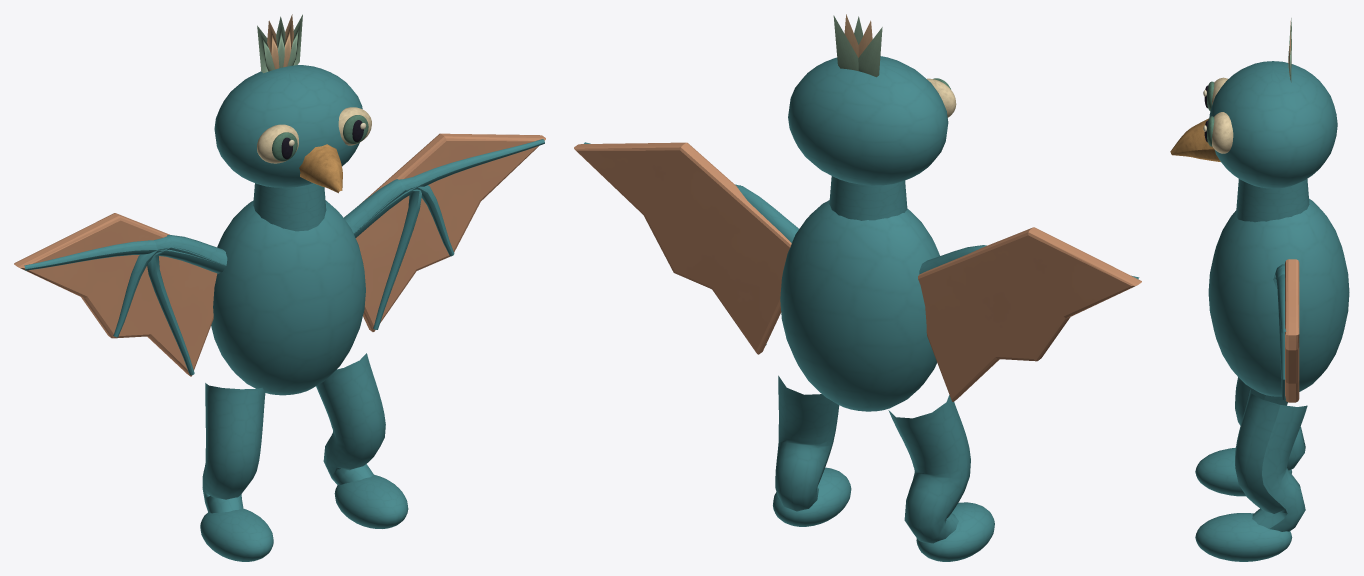
The model's file is yarro.glb.
The picture shows the model from 3 angles, left to right: view 1: azimuth 30°, elevation 25°; view 2: azimuth 150°, elevation 25°; view 3: azimuth 270°, elevation 25°; orthographic projection. The views are drawn at different scales.
Parts seen in each view (by area): view 1: Membrane (×2), Glider body, Bent limb (×2), Cranium, Sail spar (×6), Foot (×2), Visible neck, Tapered beak, Sclera; view 2: Membrane (×2), Glider body, Cranium, Bent limb (×2), Foot (×2), Visible neck, Blade (×2), Sail spar; view 3: Glider body, Cranium, Bent limb (×2), Foot (×2), Visible neck, Membrane, Tapered beak, Sail spar (×2), Sclera.
Part boxes in pixels (x1,y1,x2,y2): Membrane (×2): (14, 133, 545, 376); Glider body: (211, 200, 365, 395); Bent limb (×2): (202, 353, 385, 513); Cranium: (214, 65, 362, 187); Sail spar (×6): (24, 139, 544, 375); Foot (×2): (200, 474, 408, 561); Visible neck: (253, 183, 326, 231); Tapered beak: (299, 144, 342, 193); Sclera: (257, 124, 298, 163); Membrane (×2): (574, 142, 1141, 401); Glider body: (780, 200, 939, 411); Cranium: (788, 56, 948, 185); Bent limb (×2): (775, 375, 970, 543); Foot (×2): (773, 467, 994, 561); Visible neck: (829, 176, 907, 220); Blade (×2): (833, 15, 882, 77); Sail spar: (735, 184, 798, 239); Glider body: (1208, 198, 1349, 396); Cranium: (1209, 61, 1337, 188); Bent limb (×2): (1235, 377, 1307, 531); Foot (×2): (1195, 447, 1292, 561); Visible neck: (1236, 179, 1309, 222); Membrane: (1285, 259, 1299, 402); Tapered beak: (1170, 118, 1220, 161); Sail spar (×2): (1273, 264, 1286, 379); Sclera: (1212, 112, 1233, 153).
Size of the model in its own units: 2.07 by 1.89 by 0.6096.
Materials: 9 (9 with a texture image).
